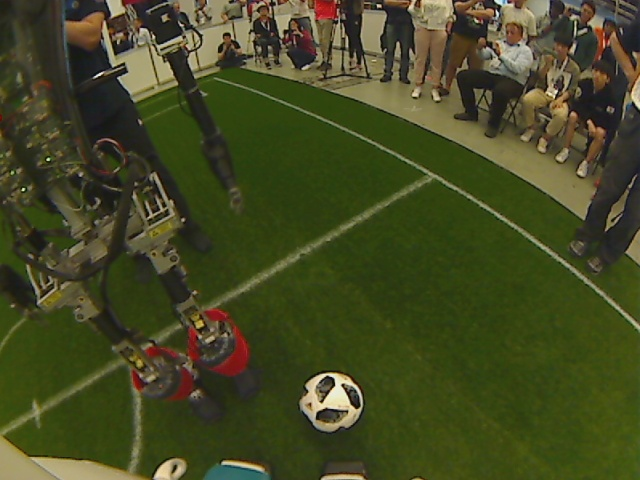ball: (296, 370, 365, 434)
